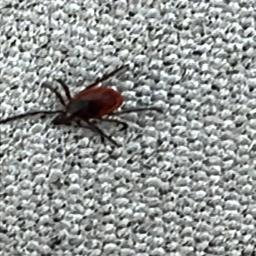Ixodes scapularis: (0, 63, 163, 145)
